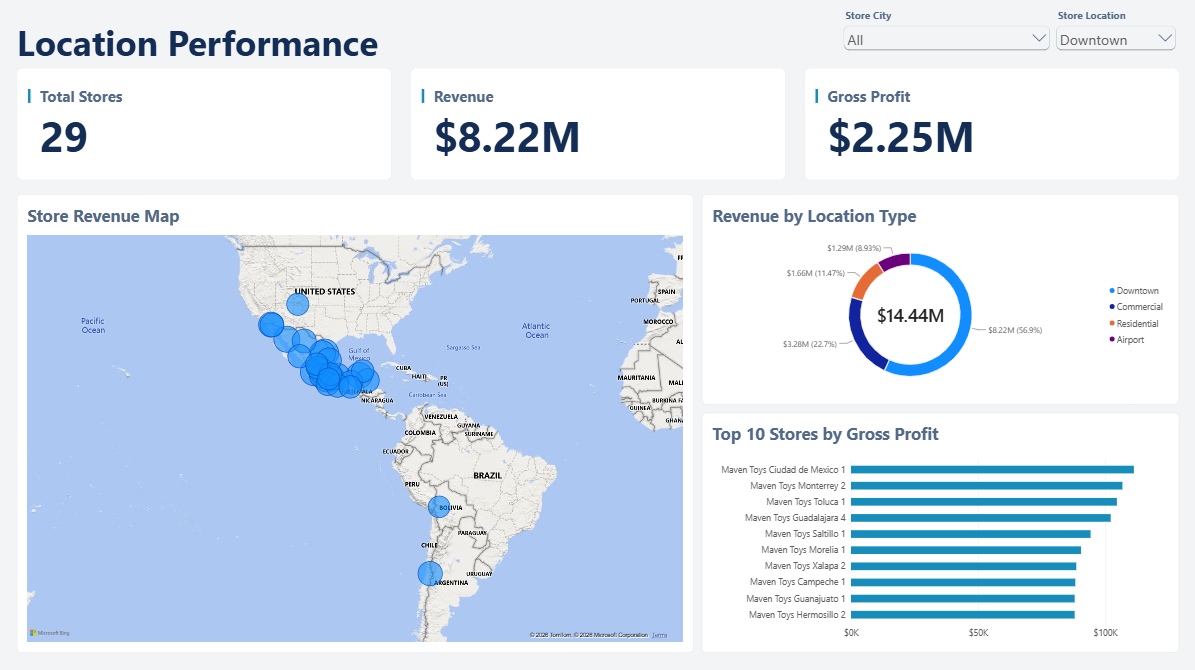

The page's visual inventory and layout, read from the dashboard file:
{"tool":"powerbi","page":{"name":"Location Performance","canvas":[1920,1080],"ordinal":2},"visuals":[{"type":"cardVisual","fields":{"Data":["maven_toys stores.Total Stores"]},"box":[29.7,109.9,600,180],"z":0},{"type":"cardVisual","fields":{"Data":["maven_toys sales.Gross Profit"]},"box":[1290.7,109.9,600,180],"z":1000},{"type":"cardVisual","fields":{"Data":["maven_toys sales.Total Revenue"]},"box":[660.2,109.9,600,180],"z":2000},{"type":"map","title":"Store Revenue Map","fields":{"Category":["maven_toys stores.Store_City"],"Size":["maven_toys sales.Total Revenue"]},"box":[29.7,312.2,1083.1,734.3],"z":3000},{"type":"donutChart","title":"Revenue by Location Type","fields":{"Category":["maven_toys stores.Store_Location"],"Y":["maven_toys sales.Total Revenue"]},"box":[1126.7,312.2,764,336.6],"z":4000},{"type":"clusteredBarChart","title":"Top 10 Stores by Gross Profit","fields":{"Category":["maven_toys stores.Store_Name"],"Y":["maven_toys sales.Gross Profit"]},"box":[1126,662,764,384],"z":5000},{"type":"textbox","box":[29.7,29.7,1046.5,80.2],"z":6000},{"type":"slicer","fields":{"Values":["maven_toys stores.Store_Location"]},"box":[1688.4,14,202,82],"z":6001},{"type":"slicer","fields":{"Values":["maven_toys stores.Store_City"]},"box":[1348.3,14,340.1,82],"z":6002},{"type":"shape","box":[30,143.6,40,22.3],"z":6003},{"type":"shape","box":[660,143.6,40,22.3],"z":6004},{"type":"shape","box":[1290.9,143.6,40,22.3],"z":6005}]}

Visuals, with their boxes in screenshot pixels (x1, y1, x2, y2), scaled from the page's 1920x1080 canvas onto the 1195x670 screenshot:
cardVisual - maven_toys stores.Total Stores: <bbox>18, 68, 392, 180</bbox>
cardVisual - maven_toys sales.Gross Profit: <bbox>803, 68, 1177, 180</bbox>
cardVisual - maven_toys sales.Total Revenue: <bbox>411, 68, 784, 180</bbox>
"Store Revenue Map" map: <bbox>18, 194, 693, 649</bbox>
"Revenue by Location Type" donutChart: <bbox>701, 194, 1177, 402</bbox>
"Top 10 Stores by Gross Profit" clusteredBarChart: <bbox>701, 411, 1176, 649</bbox>
textbox: <bbox>18, 18, 670, 68</bbox>
slicer - maven_toys stores.Store_Location: <bbox>1051, 9, 1177, 60</bbox>
slicer - maven_toys stores.Store_City: <bbox>839, 9, 1051, 60</bbox>
shape: <bbox>19, 89, 44, 103</bbox>
shape: <bbox>411, 89, 436, 103</bbox>
shape: <bbox>803, 89, 828, 103</bbox>
